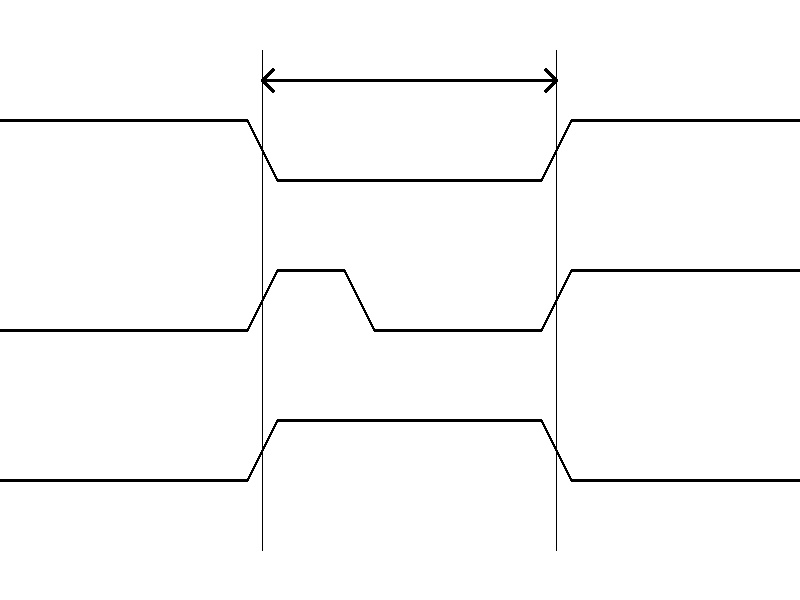double_arrow: (262, 65, 556, 95)
